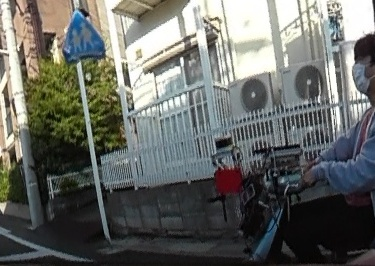person: (326, 27, 375, 266)
